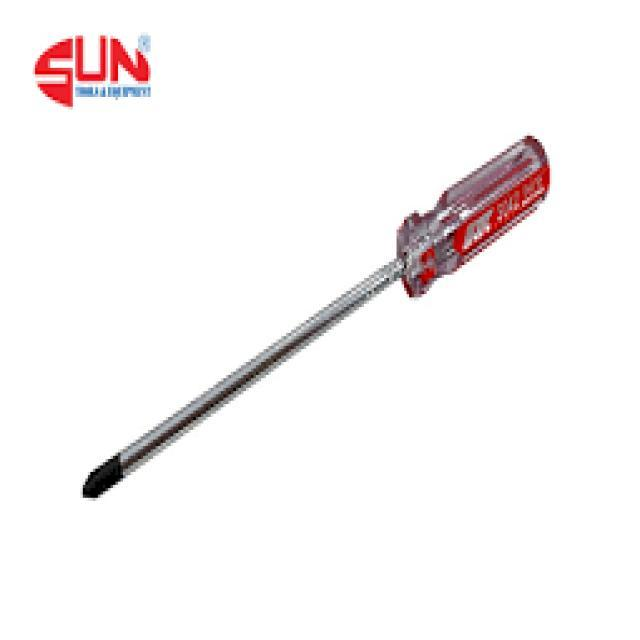screwdriver: (70, 132, 556, 499)
